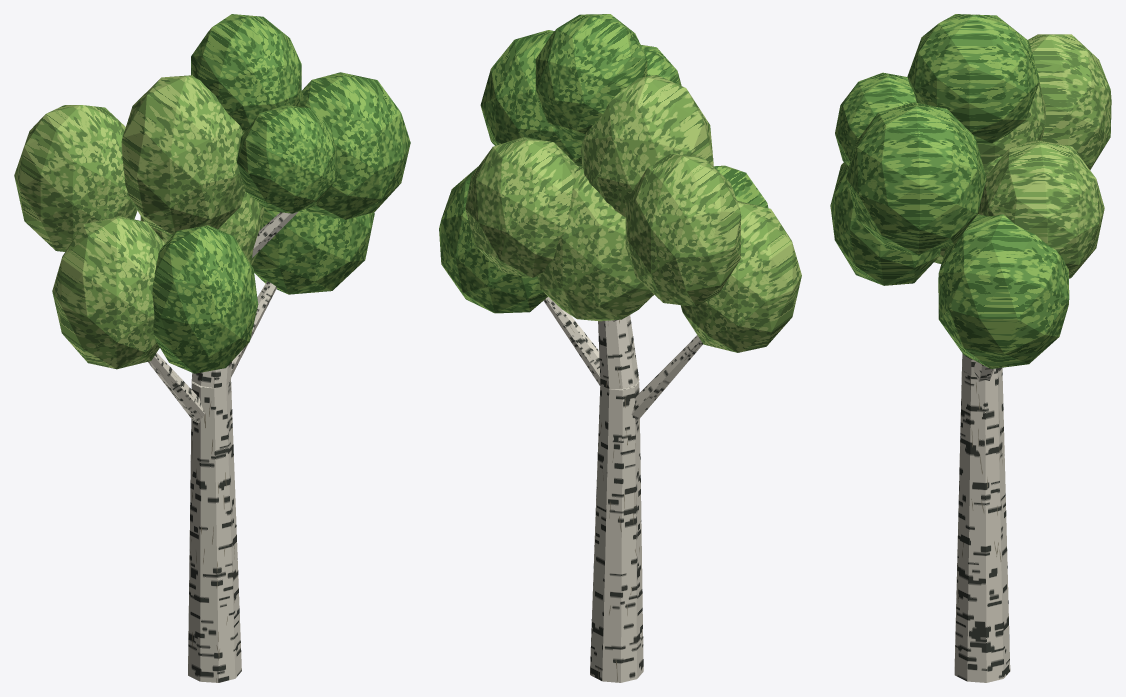
File: Birch.obj
3 views of the same model, side by side, from view 1: azimuth 30°, elevation 25°; view 2: azimuth 150°, elevation 25°; view 3: azimuth 270°, elevation 25° (orthographic). The views are drawn at different scales.
Visible parts, largest first — view 1: Birch_Birch_Leaves, Birch_Birch_Leaves_Light, Birch_Birch_Bark; view 2: Birch_Birch_Leaves_Light, Birch_Birch_Leaves, Birch_Birch_Bark; view 3: Birch_Birch_Leaves, Birch_Birch_Leaves_Light, Birch_Birch_Bark.
Part boxes in pixels (box(x1,y1,x2,y2)): Birch_Birch_Leaves: box(152, 14, 410, 373); Birch_Birch_Leaves_Light: box(14, 75, 264, 369); Birch_Birch_Bark: box(148, 211, 298, 682); Birch_Birch_Leaves_Light: box(465, 75, 801, 352); Birch_Birch_Leaves: box(439, 14, 768, 313); Birch_Birch_Bark: box(543, 296, 702, 682); Birch_Birch_Leaves: box(830, 14, 1069, 368); Birch_Birch_Leaves_Light: box(934, 34, 1111, 278); Birch_Birch_Bark: box(954, 353, 1010, 682).
Bounding box in the file's own units: 2.98 × 5.67 × 2.15.
3 materials, 3 textured.
